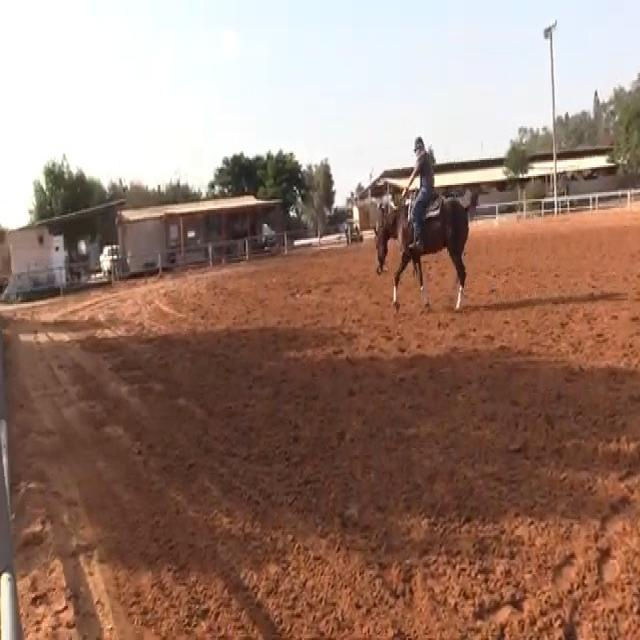horse: (371, 185, 477, 313)
